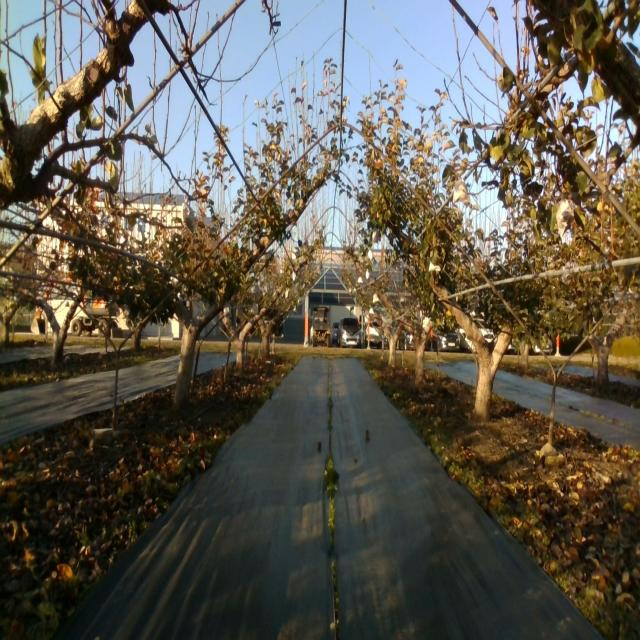pearbags: (556, 196, 575, 237), (182, 193, 196, 236), (452, 179, 471, 204)
